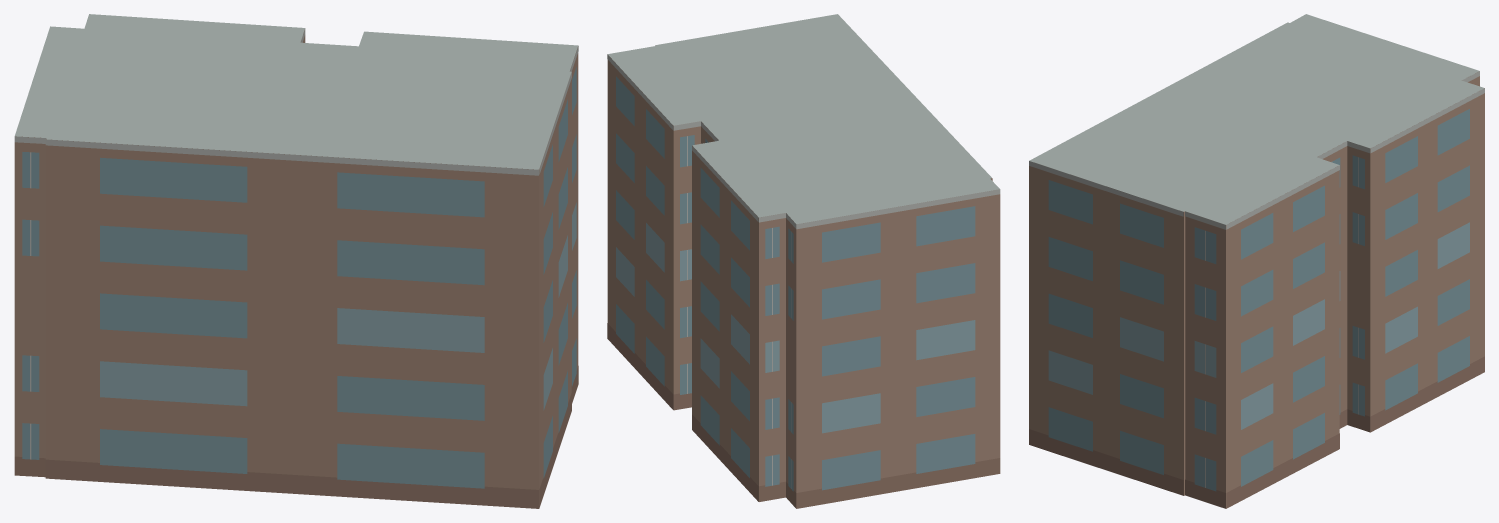
The model's file is survey-upis-32659175.glb.
The picture shows the model from 3 angles, left to right: view 1: azimuth 30°, elevation 25°; view 2: azimuth 150°, elevation 25°; view 3: azimuth 270°, elevation 25°; orthographic projection. The views are drawn at different scales.
Visible parts, largest first — view 1: survey-upis-32659175.tmp; view 2: survey-upis-32659175.tmp; view 3: survey-upis-32659175.tmp.
Boxes of the visible parts, x1,y1,x2,y2 form: survey-upis-32659175.tmp: (14, 14, 578, 508); survey-upis-32659175.tmp: (607, 14, 1000, 508); survey-upis-32659175.tmp: (1029, 14, 1484, 508).
Size of the model in its own units: 22.06 by 13.85 by 20.15.
